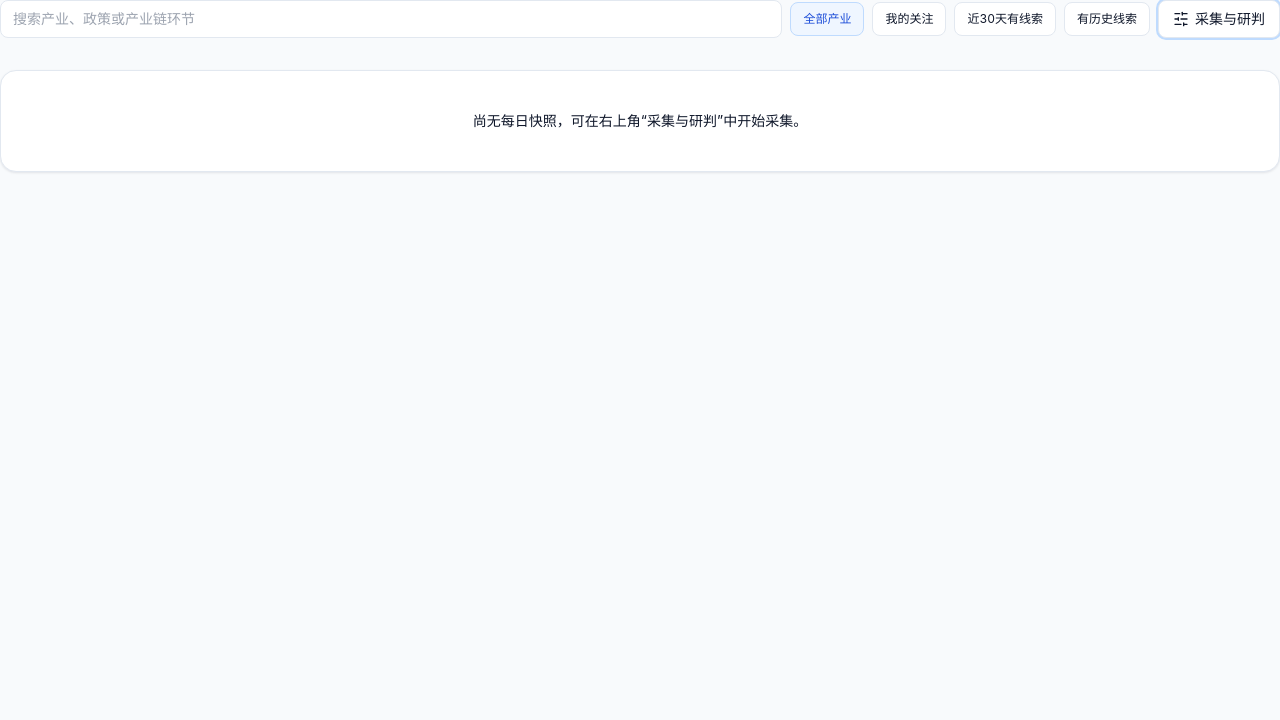
Test case: daily policy research board › starts a background collection and polls until the saved snapshot is ready
Step 1. Click the button "采集与研判" → (1219, 19), box left=1158, top=0, right=1279, bottom=38
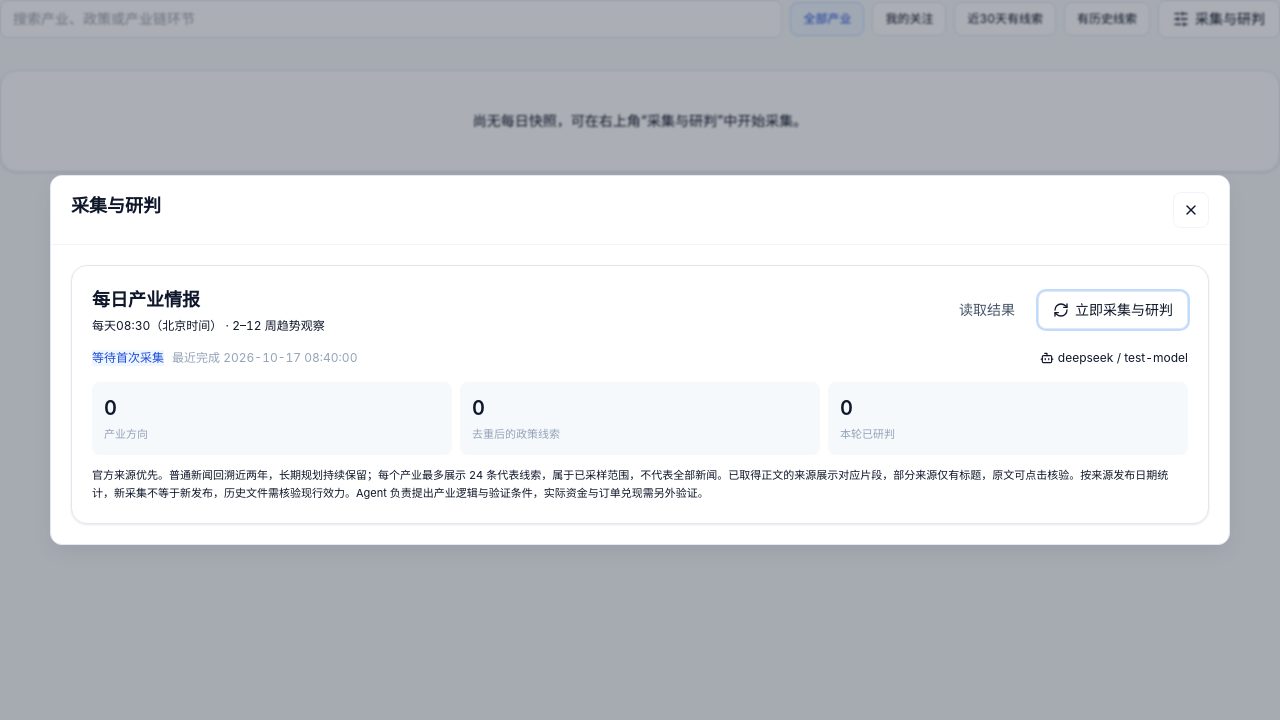
Result: the button "立即采集与研判" is shown
Result: the button "立即采集与研判" is enabled
Step 2. Click the button "立即采集与研判" → (1113, 310), box left=1038, top=291, right=1188, bottom=329
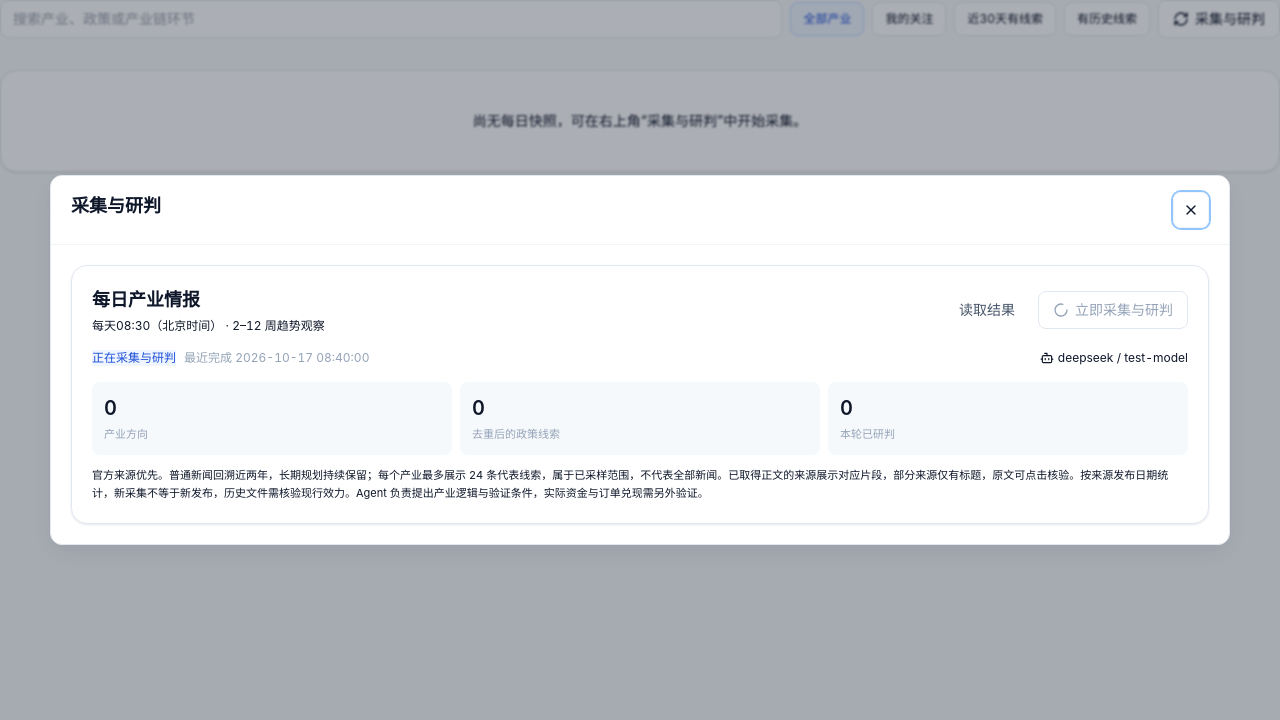
Result: the button named "关闭详情" is shown
Result: the button named "关闭详情" is enabled
Result: the dialog shows "正在采集与研判" at left=92, top=350, right=176, bottom=365
Step 3. Click the button named "关闭详情" → (1191, 210), box left=1173, top=192, right=1209, bottom=228
Wait 5000 ms
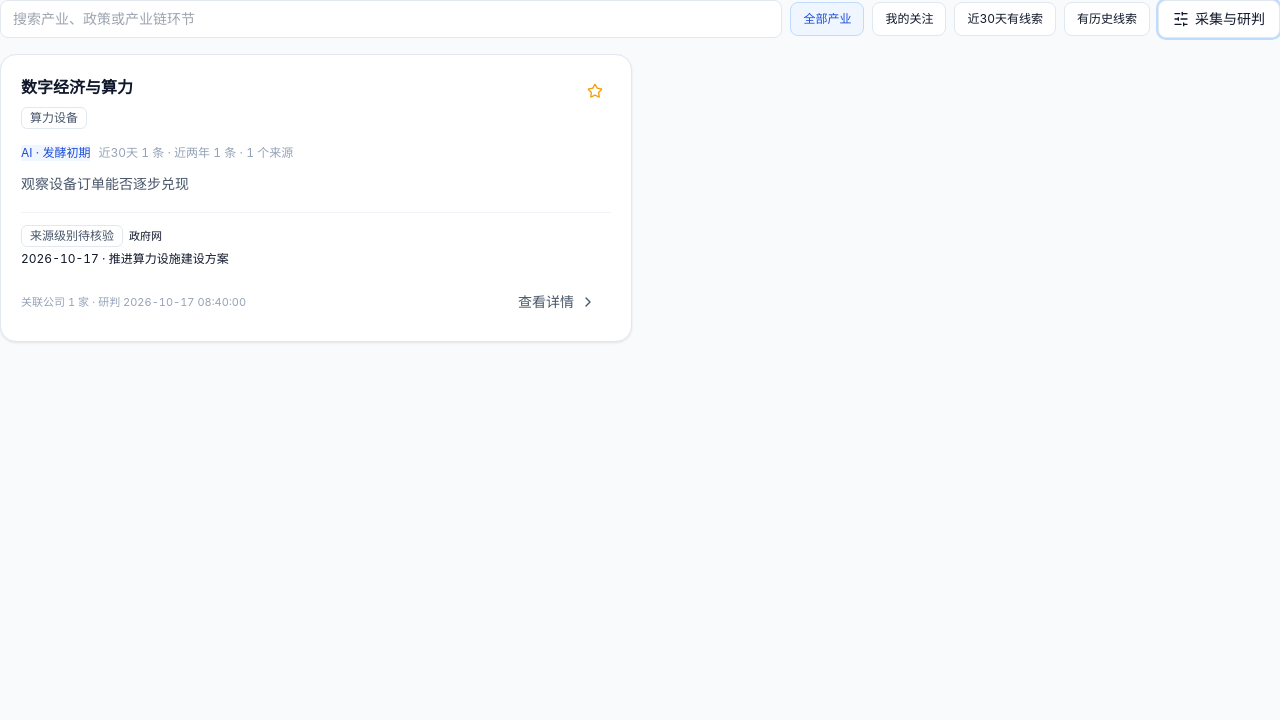
Result: the text "数字经济与算力" is shown at left=21, top=75, right=133, bottom=99
Step 4. Click the button "采集与研判" → (1219, 19), box left=1158, top=0, right=1279, bottom=38
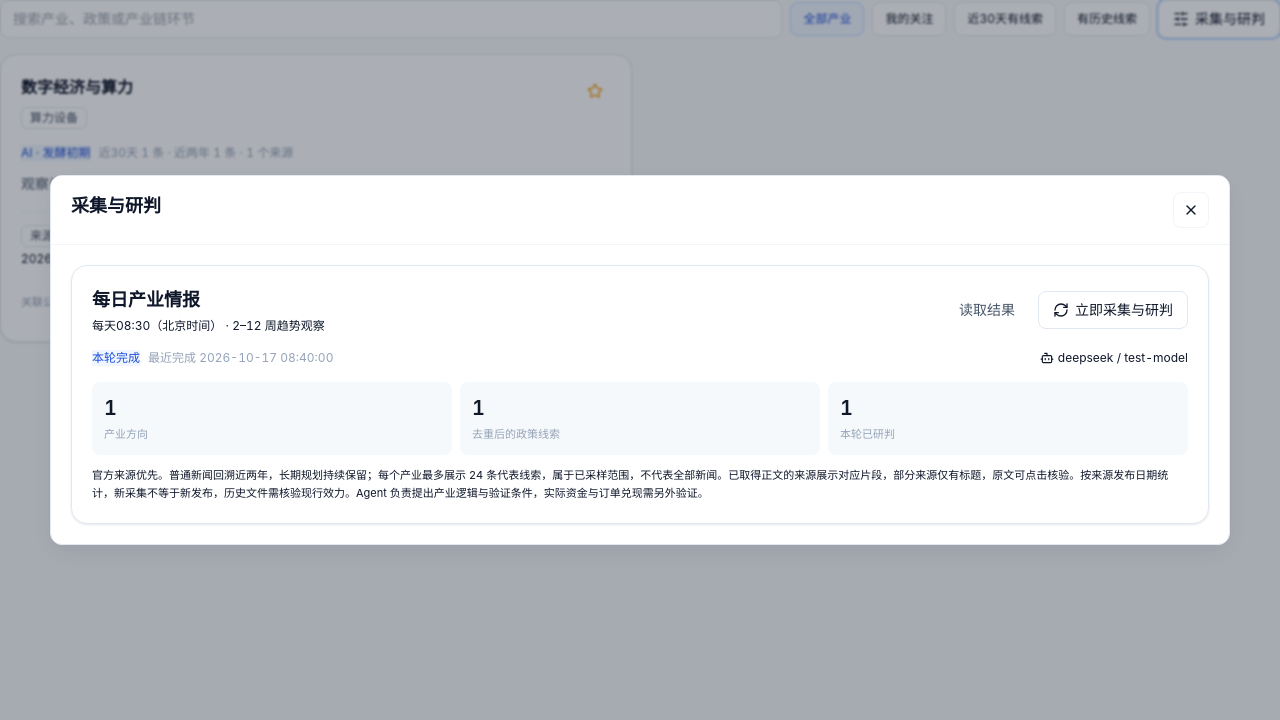
Result: the dialog shows "本轮完成" at left=92, top=350, right=140, bottom=365
